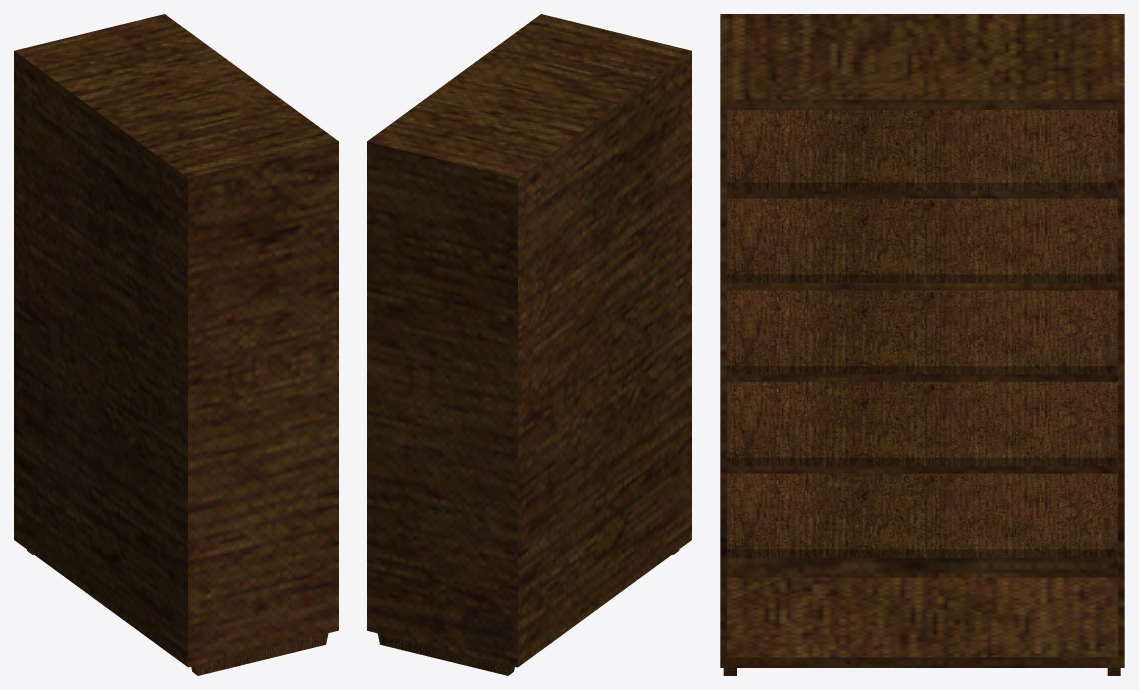
File: Bookshelf.glb
3 renders of one model, left to right at view 1: azimuth 30°, elevation 25°; view 2: azimuth 150°, elevation 25°; view 3: azimuth 270°, elevation 25°, orthographic. The views are drawn at different scales.
Visible parts, largest first — view 1: Cube; view 2: Cube; view 3: Cube.
Part boxes in pixels (left/top/right/bottom): Cube: left=14, top=14, right=338, bottom=675; Cube: left=367, top=14, right=691, bottom=675; Cube: left=720, top=14, right=1124, bottom=675.
Size of the model in its own units: 0.4 by 1.27 by 0.8.
1 material, 1 textured.
